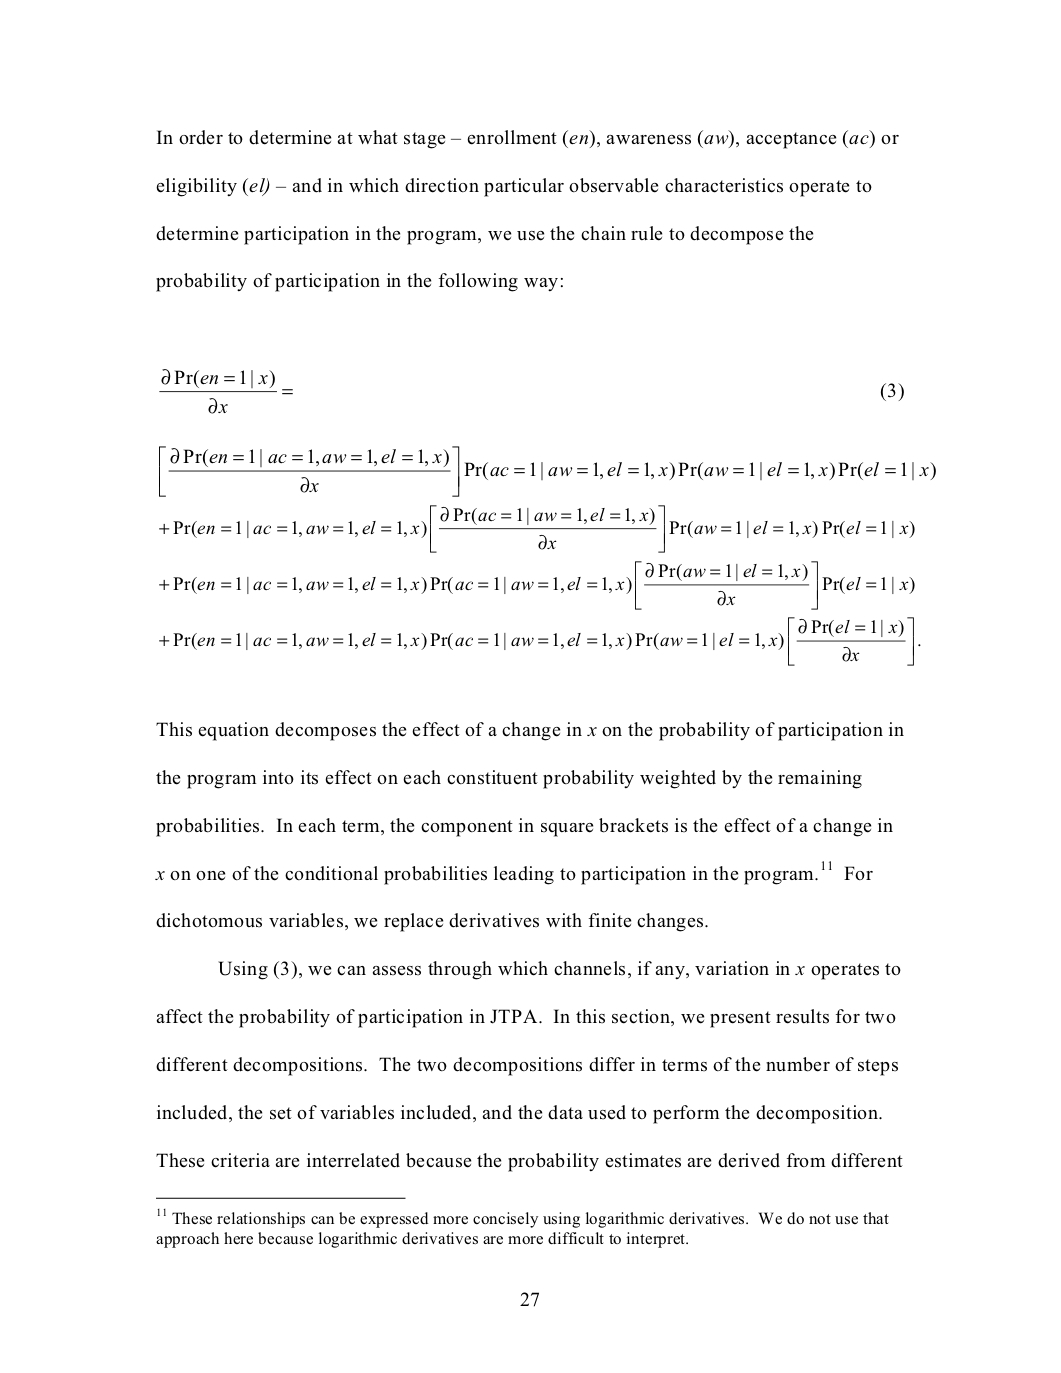formula: (159, 445, 935, 497), (159, 615, 919, 666), (159, 559, 914, 610), (159, 504, 914, 553), (159, 368, 903, 413)
